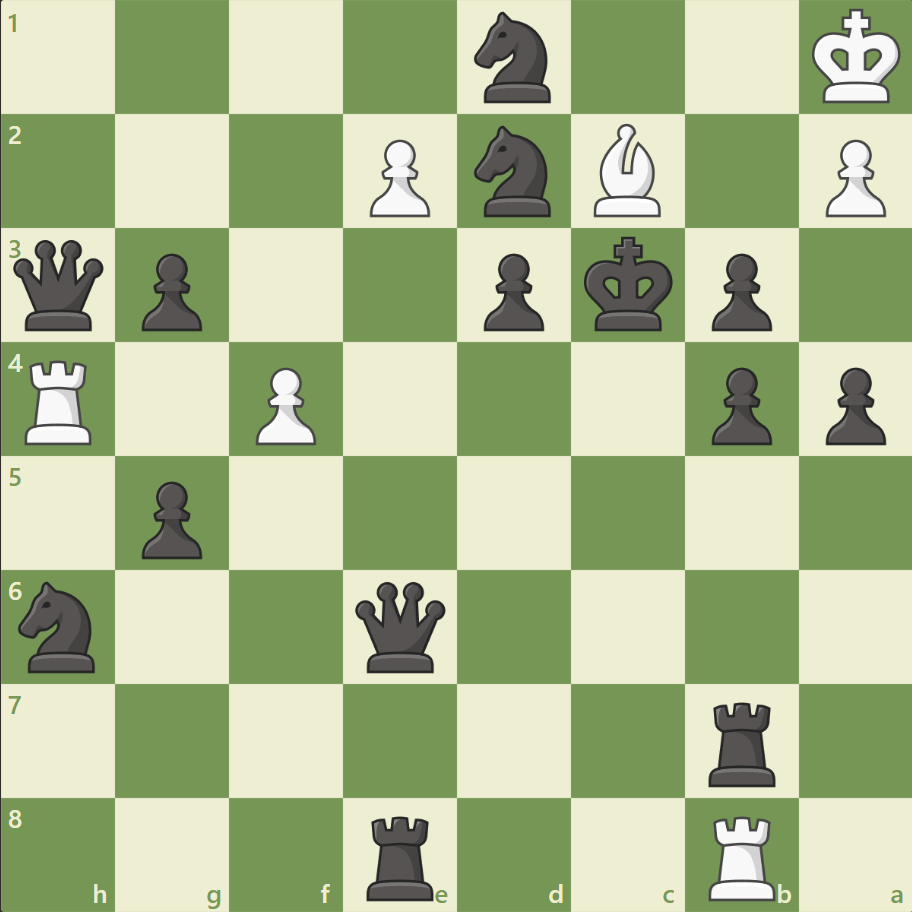B: (585, 120, 669, 222)
K: (806, 4, 906, 112)
P: (247, 359, 322, 450), (815, 132, 889, 223), (361, 132, 435, 223)
R: (700, 806, 783, 904), (19, 352, 102, 449)
k: (579, 231, 679, 339)
n: (465, 7, 562, 110), (11, 575, 108, 677), (465, 121, 562, 223)
p: (133, 473, 208, 564), (701, 359, 776, 450), (701, 246, 776, 337), (474, 246, 549, 337), (133, 246, 208, 337), (815, 359, 889, 450)
q: (351, 576, 450, 676), (10, 236, 109, 335)
r: (700, 693, 783, 790), (360, 806, 442, 904)
